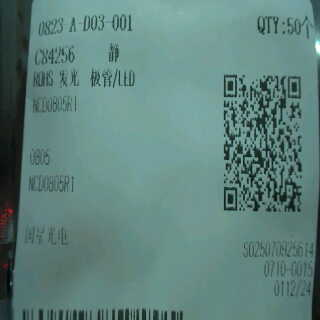LED: (58, 64, 145, 91)
